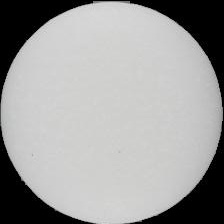50090-1059: (0, 0, 224, 224)
